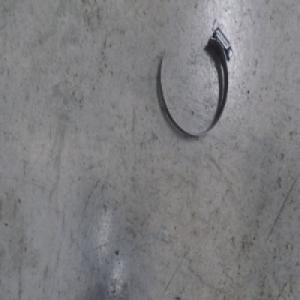AdjustableClamp: (157, 22, 234, 143)
